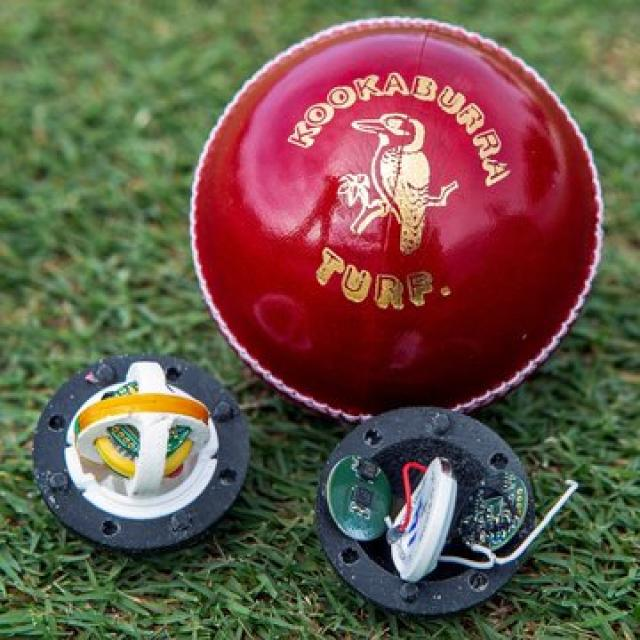ball: (183, 7, 606, 421)
